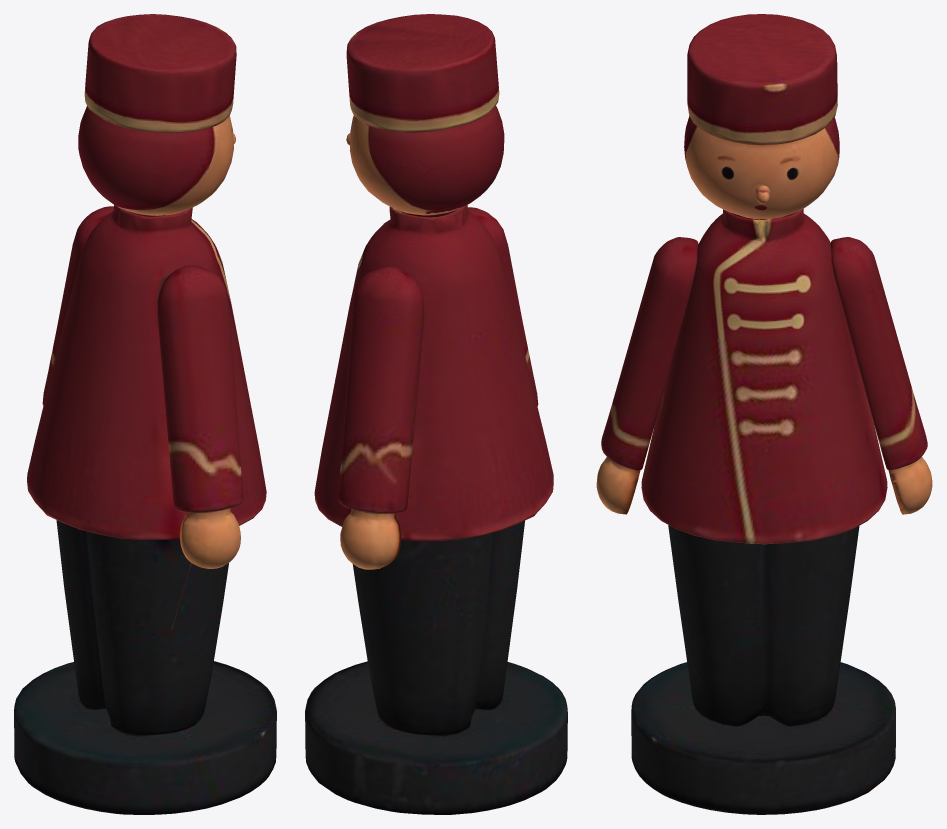
Rendered from person_porter.glb.
3 views of the same model, side by side, from view 1: azimuth 30°, elevation 25°; view 2: azimuth 150°, elevation 25°; view 3: azimuth 270°, elevation 25° (orthographic).
Visible parts, largest first — view 1: tripo_node_c63daaa0-c626-4b20-b706-a4f57f5cfa36; view 2: tripo_node_c63daaa0-c626-4b20-b706-a4f57f5cfa36; view 3: tripo_node_c63daaa0-c626-4b20-b706-a4f57f5cfa36.
Boxes of the visible parts, x1,y1,x2,y2 form: tripo_node_c63daaa0-c626-4b20-b706-a4f57f5cfa36: (14,14,276,814); tripo_node_c63daaa0-c626-4b20-b706-a4f57f5cfa36: (305,14,567,814); tripo_node_c63daaa0-c626-4b20-b706-a4f57f5cfa36: (596,14,932,814).
Bounding box in the file's own units: 0.3306 × 0.9995 × 0.4194.
1 material, 1 textured.
